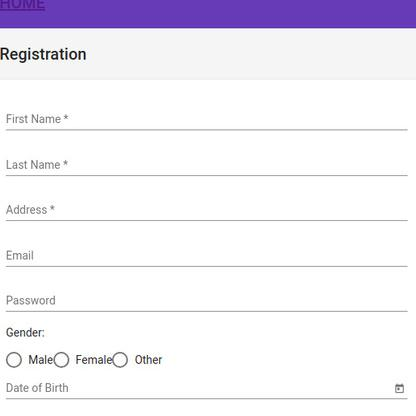field_line: (2, 102, 410, 133), (3, 150, 410, 178), (4, 288, 410, 314), (1, 199, 411, 224), (3, 244, 411, 269), (5, 378, 408, 402)
radio: (3, 348, 23, 370), (52, 349, 69, 369), (113, 350, 128, 370)
